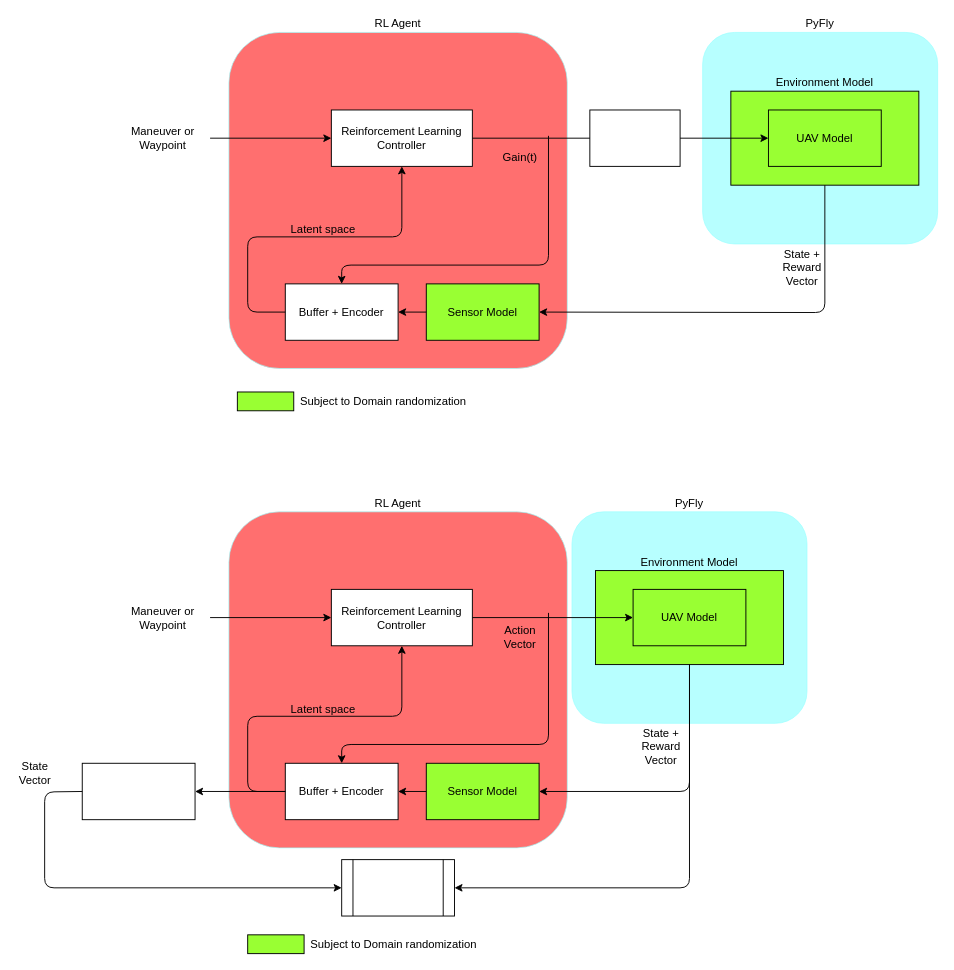
The diagram is 954 pixels wide and 970 high, and some of its shapes have lost their labels. Each missing label, with the centre of its shape:
Decoder: the point at 138,791
L reconstr: the point at 397,887
PID Controller: the point at 634,137
